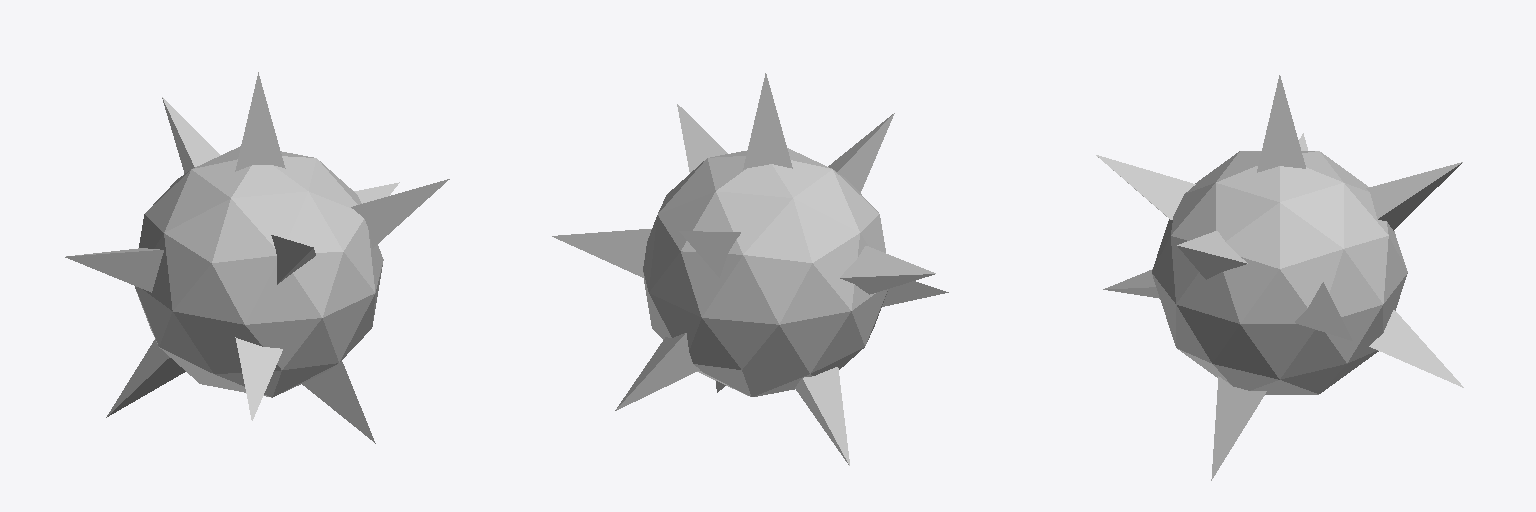
File: ball spikes.obj
3 renders of one model, left to right at view 1: azimuth 30°, elevation 25°; view 2: azimuth 150°, elevation 25°; view 3: azimuth 270°, elevation 25°, orthographic.
Visible parts, largest first — view 1: Icosphere_Icosphere.003; view 2: Icosphere_Icosphere.003; view 3: Icosphere_Icosphere.003.
Boxes of the visible parts, box(x1,y1,x2,y2) form: Icosphere_Icosphere.003: box(65, 72, 449, 443); Icosphere_Icosphere.003: box(552, 73, 948, 465); Icosphere_Icosphere.003: box(1096, 75, 1463, 480).
Size of the model in its own units: 1.78 by 1.72 by 1.58.